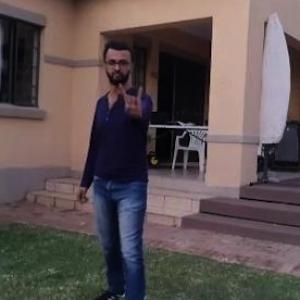takeoff-hand: (115, 77, 149, 119)
